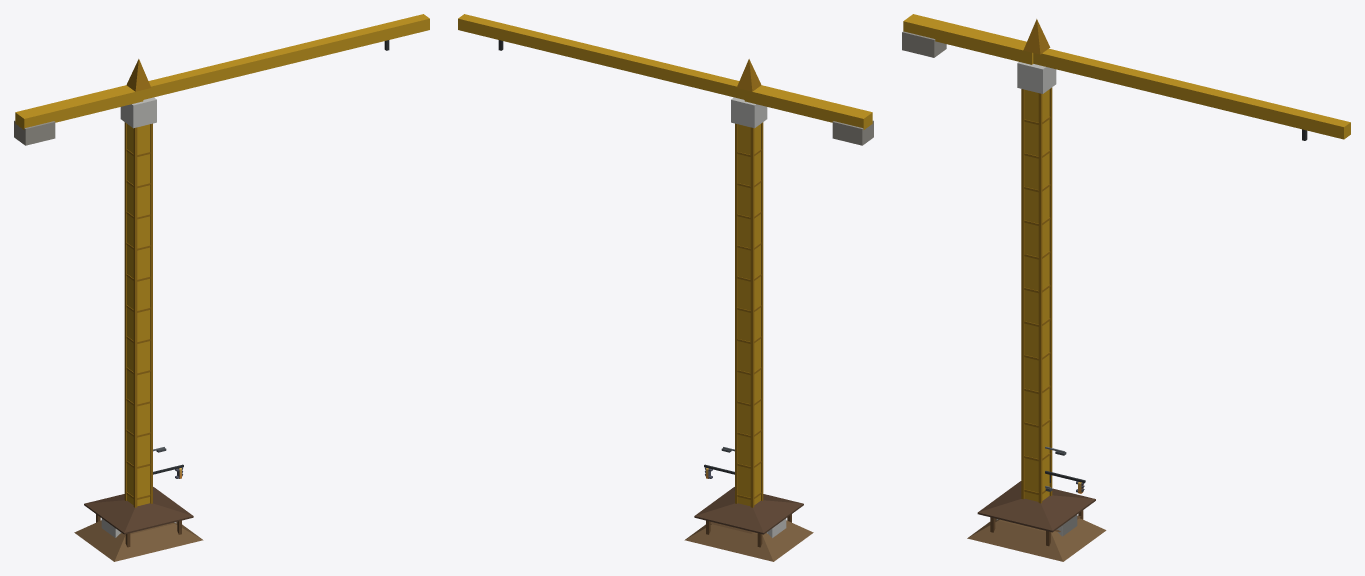
File: props.glb
The picture shows the model from 3 angles, left to right: view 1: azimuth 30°, elevation 25°; view 2: azimuth 150°, elevation 25°; view 3: azimuth 330°, elevation 25°; orthographic projection. The views are drawn at different scales.
Parts seen in each view (by area): view 1: crane, pavilion, mound; view 2: crane, pavilion, mound; view 3: crane, pavilion, mound.
Part boxes in pixels (x1,y1,x2,y2): crane: [14, 14, 429, 507]; pavilion: [84, 487, 193, 547]; mound: [74, 520, 203, 561]; crane: [458, 14, 873, 507]; pavilion: [694, 487, 803, 547]; mound: [684, 520, 813, 561]; crane: [902, 14, 1350, 503]; pavilion: [977, 481, 1095, 546]; mound: [967, 515, 1106, 561].
Bounding box in the file's own units: 41 × 46 × 7.
